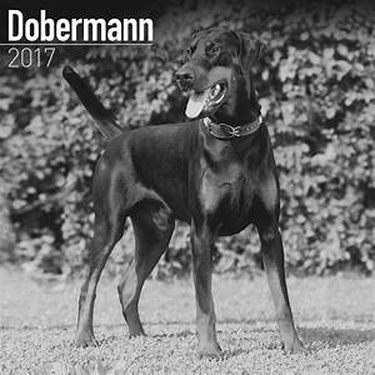dog: (46, 24, 319, 359)
